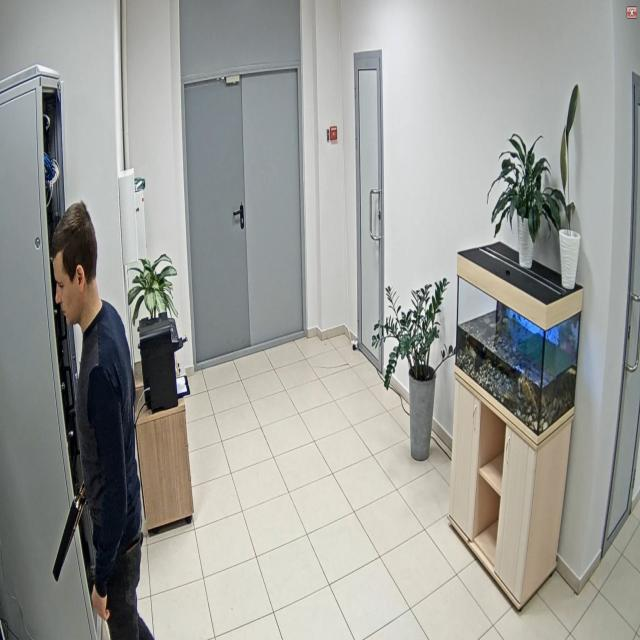-Gun: (53, 479, 87, 583)
